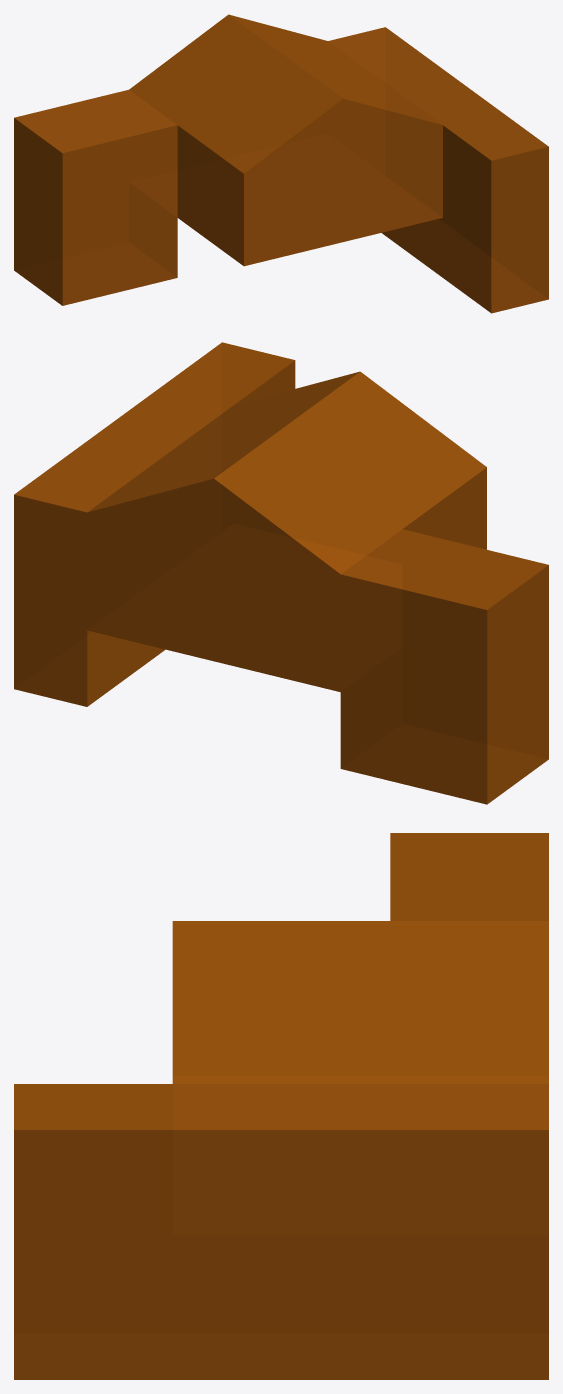
The picture shows the model from 3 angles, top to bottom: view 1: azimuth 30°, elevation 25°; view 2: azimuth 150°, elevation 25°; view 3: azimuth 270°, elevation 25°; orthographic projection. The views are drawn at different scales.
Parts seen in each view (by area): view 1: SketchUp; view 2: SketchUp; view 3: SketchUp.
Boxes of the visible parts, x1,y1,x2,y2 form: SketchUp: (14,14,548,313); SketchUp: (14,342,548,804); SketchUp: (14,833,548,1379).
Bounding box in the file's own units: 165 × 126 × 86.61.
